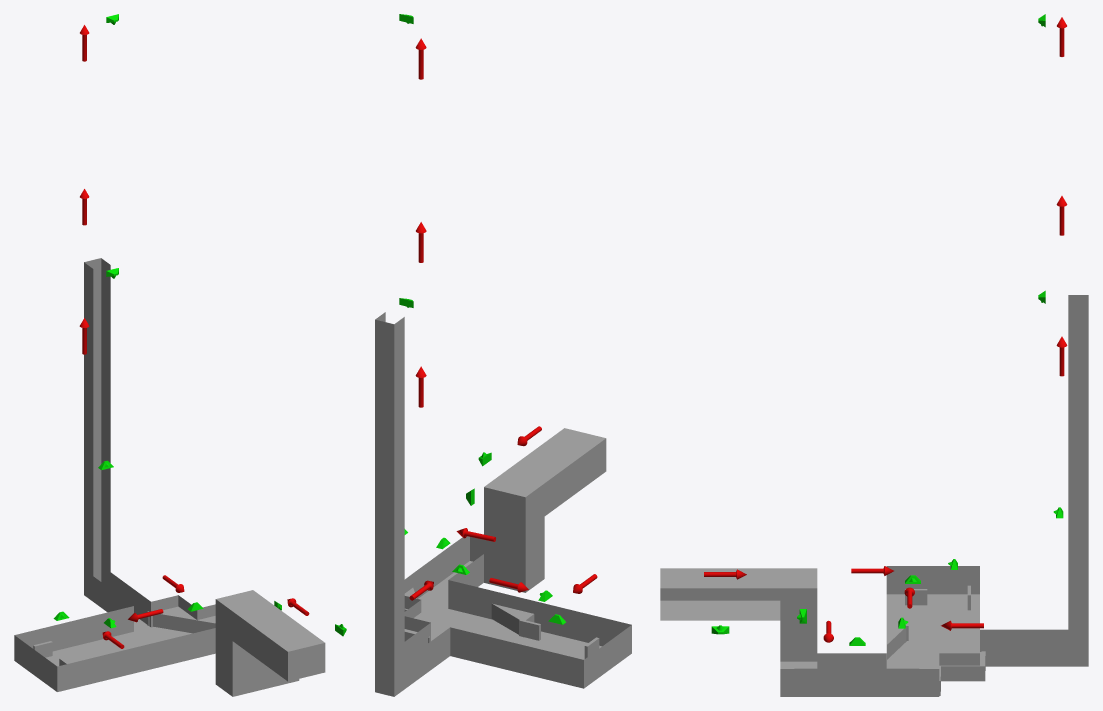
Rendered from boss_level_greybox.fbx.
The picture shows the model from 3 angles, left to right: view 1: azimuth 30°, elevation 25°; view 2: azimuth 150°, elevation 25°; view 3: azimuth 270°, elevation 25°; orthographic projection. The views are drawn at different scales.
Parts seen in each view (by area): view 1: pCube2, pCube4; view 2: pCube2, pCube7; view 3: pCube2, pCube4.
Boxes of the visible parts, x1,y1,x2,y2 form: pCube2: (14,258,325,696); pCube4: (147,606,195,633); pCube2: (375,312,631,696); pCube7: (491,603,534,637); pCube2: (660,295,1088,696); pCube4: (938,651,985,681).
Size of the model in its own units: 16.04 by 42.83 by 25.79.
